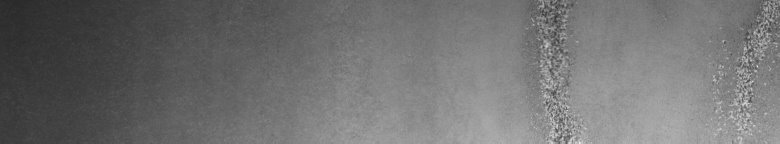hc: (524, 4, 584, 136)
